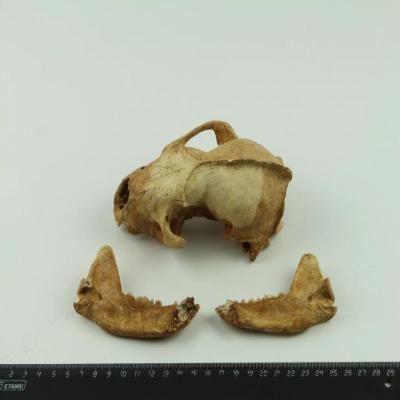natural_science_collection: (113, 121, 292, 263), (76, 246, 200, 340), (214, 254, 330, 337)
